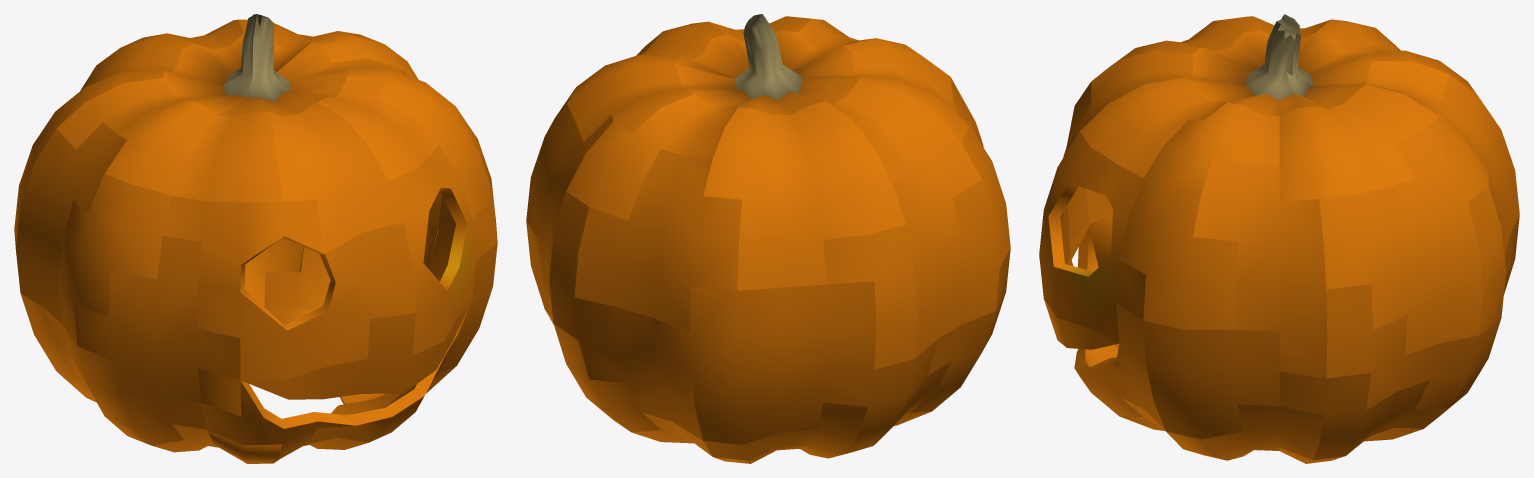
File: PumpkinExplode.glb
3 views of the same model, side by side, from view 1: azimuth 30°, elevation 25°; view 2: azimuth 150°, elevation 25°; view 3: azimuth 270°, elevation 25° (orthographic).
Parts seen in each view (by area): view 1: PumpkinExplode.001, PumpkinExplode.019, PumpkinExplode.028, PumpkinExplode.030, PumpkinExplode.031, PumpkinExplode.014, PumpkinExplode.032, PumpkinExplode.034, PumpkinExplode.010, PumpkinExplode.017, PumpkinExplode.000, PumpkinExplode.012 (+17 smaller); view 2: PumpkinExplode.023, PumpkinExplode.003, PumpkinExplode.026, PumpkinExplode.032, PumpkinExplode.004, PumpkinExplode.019, PumpkinExplode.006, PumpkinExplode.029, PumpkinExplode.022, PumpkinExplode.008, PumpkinExplode.031, PumpkinExplode.002 (+10 smaller); view 3: PumpkinExplode.002, PumpkinExplode.010, PumpkinExplode.013, PumpkinExplode.008, PumpkinExplode.024, PumpkinExplode.014, PumpkinExplode.007, PumpkinExplode.011, PumpkinExplode.012, PumpkinExplode.000, PumpkinExplode.022, PumpkinExplode.018 (+13 smaller).
Part boxes in pixels (box(x1,y1,x2,y2)): PumpkinExplode.001: box(163, 195, 415, 380); PumpkinExplode.019: box(56, 78, 282, 202); PumpkinExplode.028: box(74, 236, 240, 402); PumpkinExplode.030: box(268, 102, 403, 253); PumpkinExplode.031: box(58, 173, 171, 345); PumpkinExplode.014: box(389, 145, 497, 355); PumpkinExplode.032: box(16, 122, 126, 323); PumpkinExplode.034: box(241, 302, 471, 399); PumpkinExplode.010: box(332, 58, 497, 240); PumpkinExplode.017: box(44, 308, 206, 445); PumpkinExplode.000: box(218, 14, 348, 117); PumpkinExplode.012: box(317, 75, 438, 180); PumpkinExplode.023: box(653, 281, 876, 444); PumpkinExplode.003: box(703, 101, 905, 290); PumpkinExplode.026: box(574, 149, 741, 331); PumpkinExplode.032: box(891, 113, 981, 358); PumpkinExplode.004: box(549, 191, 702, 440); PumpkinExplode.019: box(826, 38, 969, 182); PumpkinExplode.006: box(566, 94, 737, 220); PumpkinExplode.029: box(823, 225, 917, 369); PumpkinExplode.022: box(676, 14, 860, 115); PumpkinExplode.008: box(567, 54, 693, 141); PumpkinExplode.031: box(952, 126, 1010, 323); PumpkinExplode.002: box(526, 88, 613, 320); PumpkinExplode.002: box(1319, 129, 1483, 354); PumpkinExplode.010: box(1119, 102, 1279, 330); PumpkinExplode.013: box(1193, 156, 1327, 378); PumpkinExplode.008: box(1279, 84, 1439, 201); PumpkinExplode.024: box(1143, 320, 1279, 439); PumpkinExplode.014: box(1039, 131, 1145, 342); PumpkinExplode.007: box(1326, 284, 1501, 427); PumpkinExplode.011: box(1279, 371, 1448, 459); PumpkinExplode.012: box(1080, 77, 1226, 177); PumpkinExplode.000: box(1188, 15, 1314, 115); PumpkinExplode.022: box(1230, 14, 1371, 109); PumpkinExplode.018: box(1120, 397, 1323, 460).
Size of the model in its own units: 0.3799 by 0.3552 by 0.3799.
